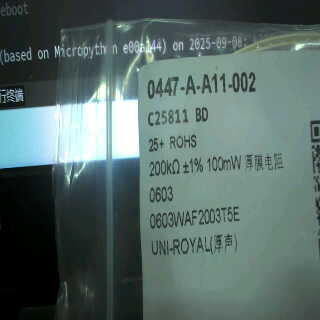200kR: (147, 155, 181, 181)
